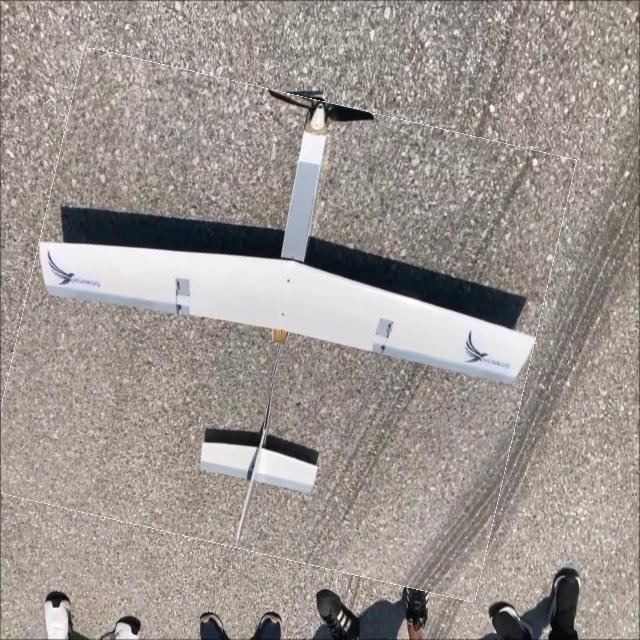iha: (31, 61, 556, 560)
